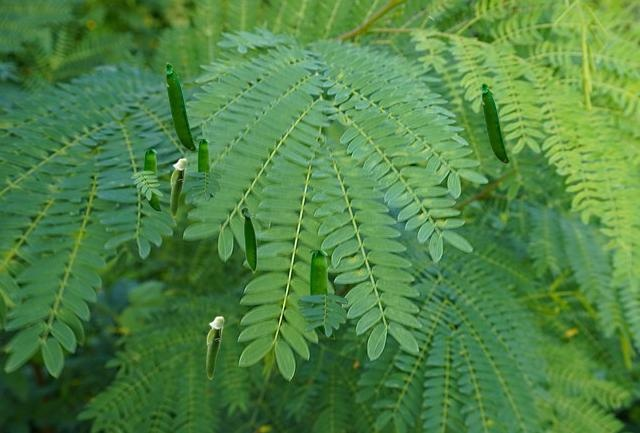pea: (165, 62, 195, 150), (481, 82, 508, 162), (310, 250, 333, 338), (240, 206, 256, 273), (206, 316, 223, 378), (144, 149, 160, 211), (170, 158, 186, 216), (198, 139, 212, 197)
